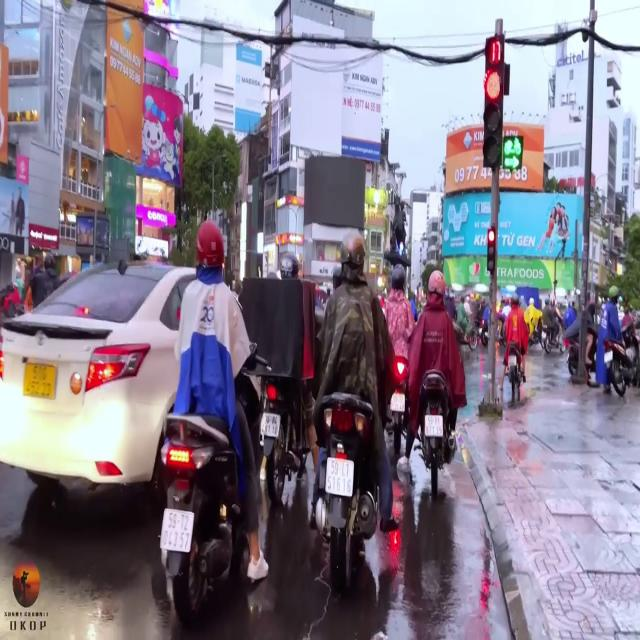bien_trang: (157, 506, 193, 553), (325, 455, 354, 499), (425, 411, 443, 437)
bien_vang: (20, 359, 58, 404)
